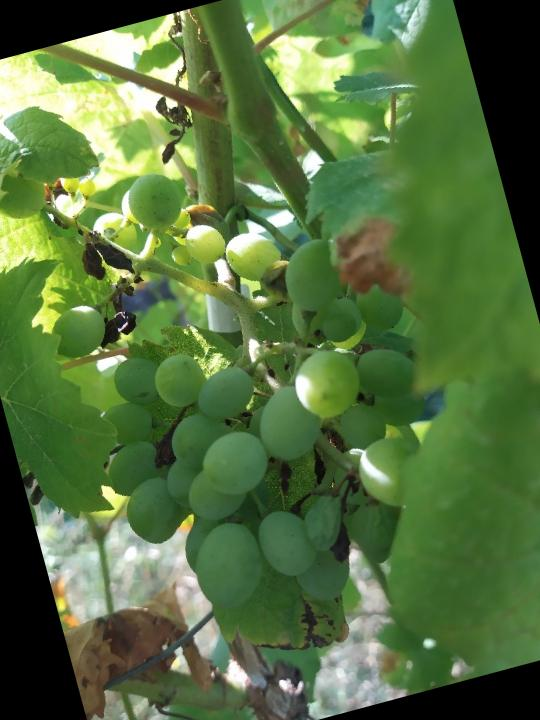grape: (19, 118, 474, 655)
